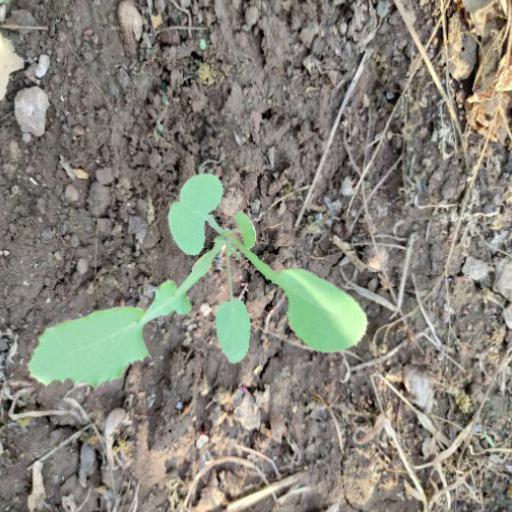weed: (20, 163, 374, 387)
